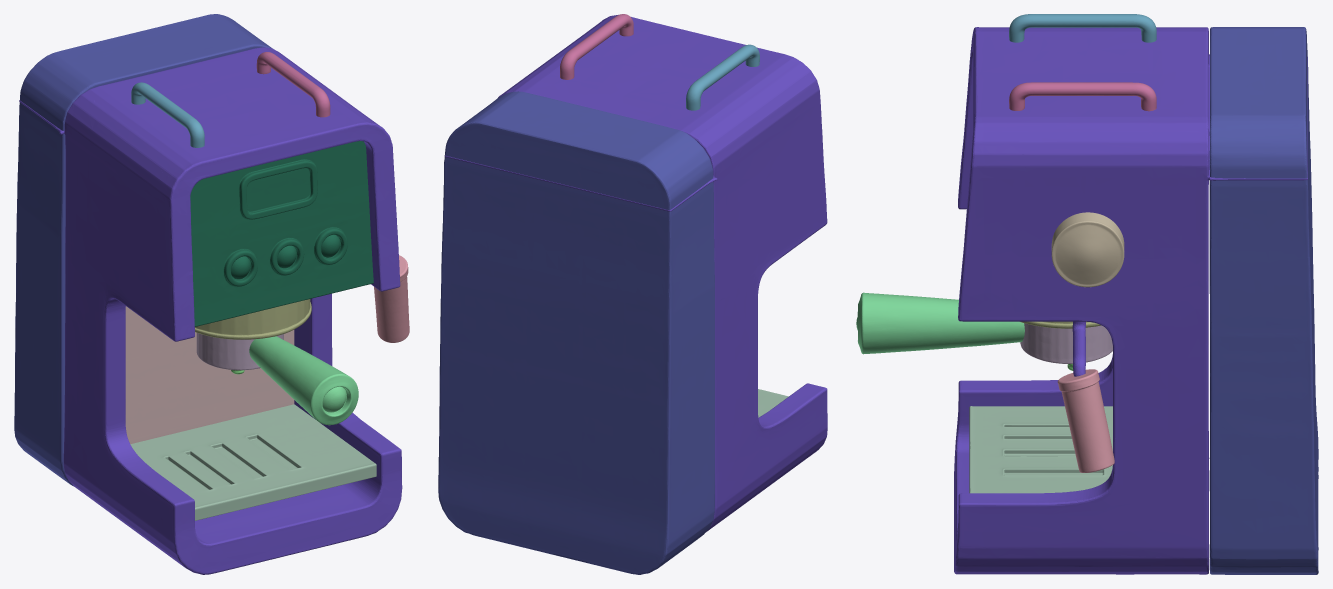
3 views of the same model, side by side, from view 1: azimuth 30°, elevation 25°; view 2: azimuth 150°, elevation 25°; view 3: azimuth 270°, elevation 25° (orthographic). The views are drawn at different scales.
Visible parts, largest first — view 1: world; view 2: world; view 3: world.
Boxes of the visible parts, left/top/right/bottom form: world: left=14, top=14, right=409, bottom=574; world: left=438, top=14, right=827, bottom=574; world: left=856, top=14, right=1318, bottom=574.
Bounding box in the file's own units: 0.5986 × 0.8239 × 0.7226.
